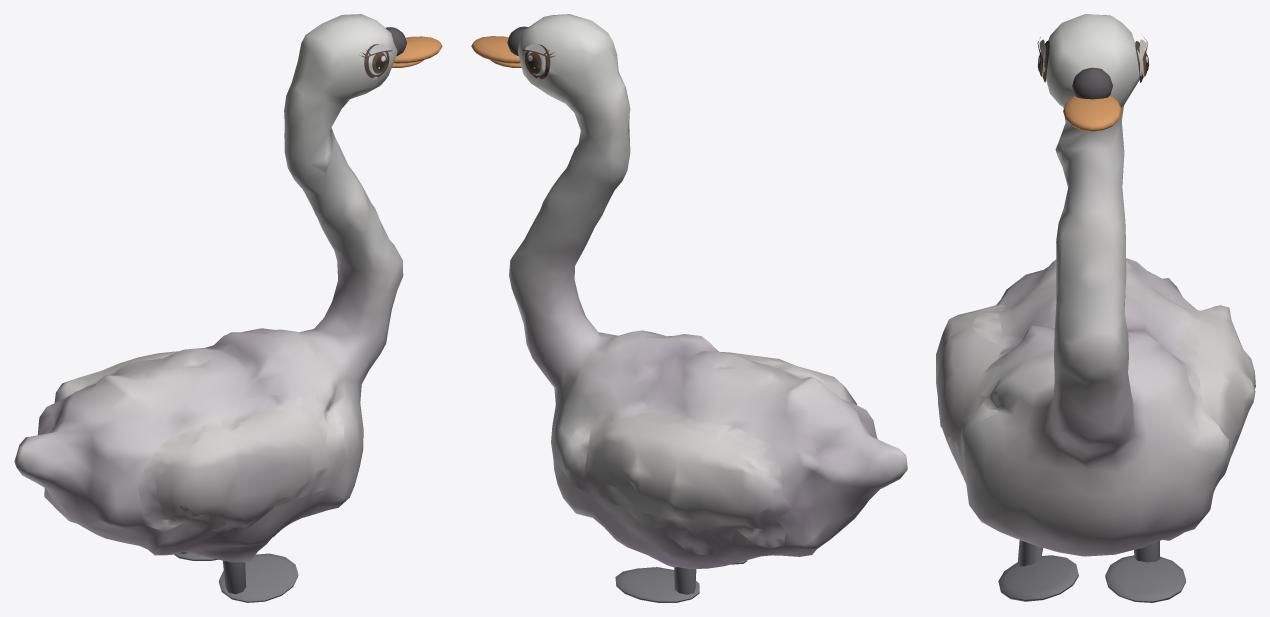
The model's file is swan.glb.
3 views of the same model, side by side, from view 1: azimuth 30°, elevation 25°; view 2: azimuth 150°, elevation 25°; view 3: azimuth 270°, elevation 25° (orthographic). The views are drawn at different scales.
Visible parts, largest first — view 1: swan; view 2: swan; view 3: swan.
Boxes of the visible parts, box(x1,y1,x2,y2) form: swan: box(14, 14, 442, 602); swan: box(471, 14, 907, 602); swan: box(936, 14, 1255, 602).
Bounding box in the file's own units: 0.611 × 0.7187 × 0.3278.
